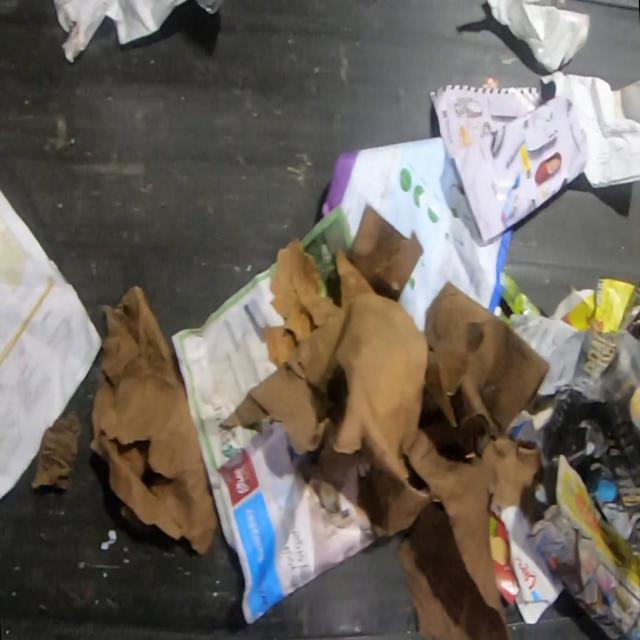cardboard: (220, 197, 552, 638), (87, 286, 219, 555)
